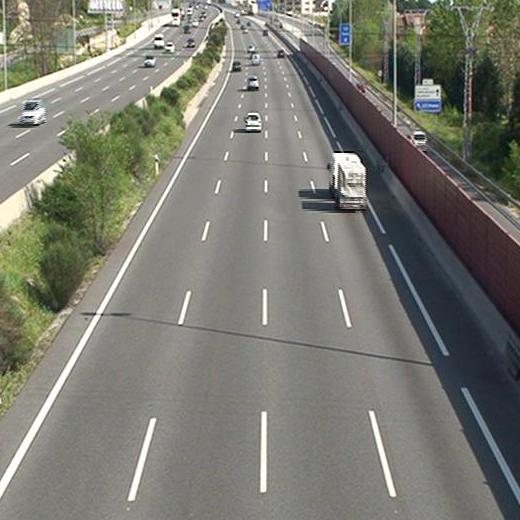car: (245, 113, 262, 132), (247, 76, 259, 90), (231, 61, 240, 71), (276, 48, 284, 57), (247, 45, 255, 52)
van: (327, 152, 360, 196), (251, 53, 260, 66)
